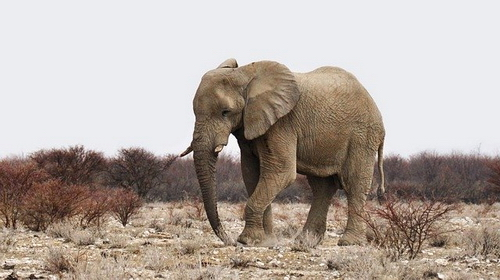elephant: (180, 54, 393, 246)
